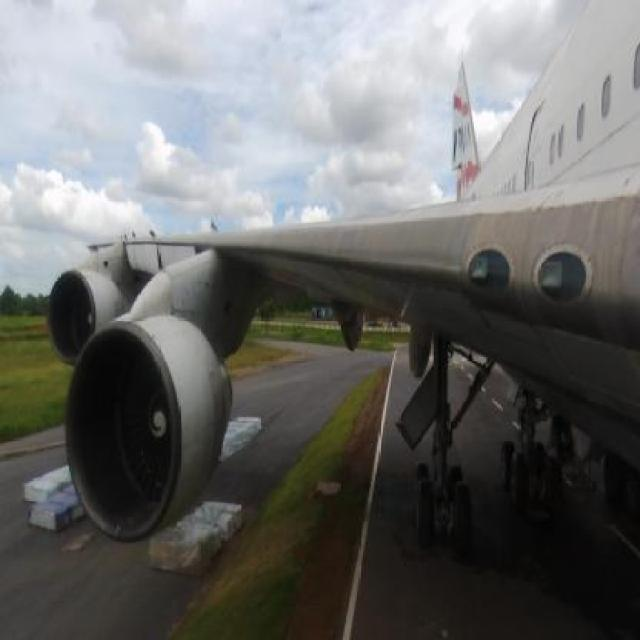Scartch: (343, 270, 454, 318)
